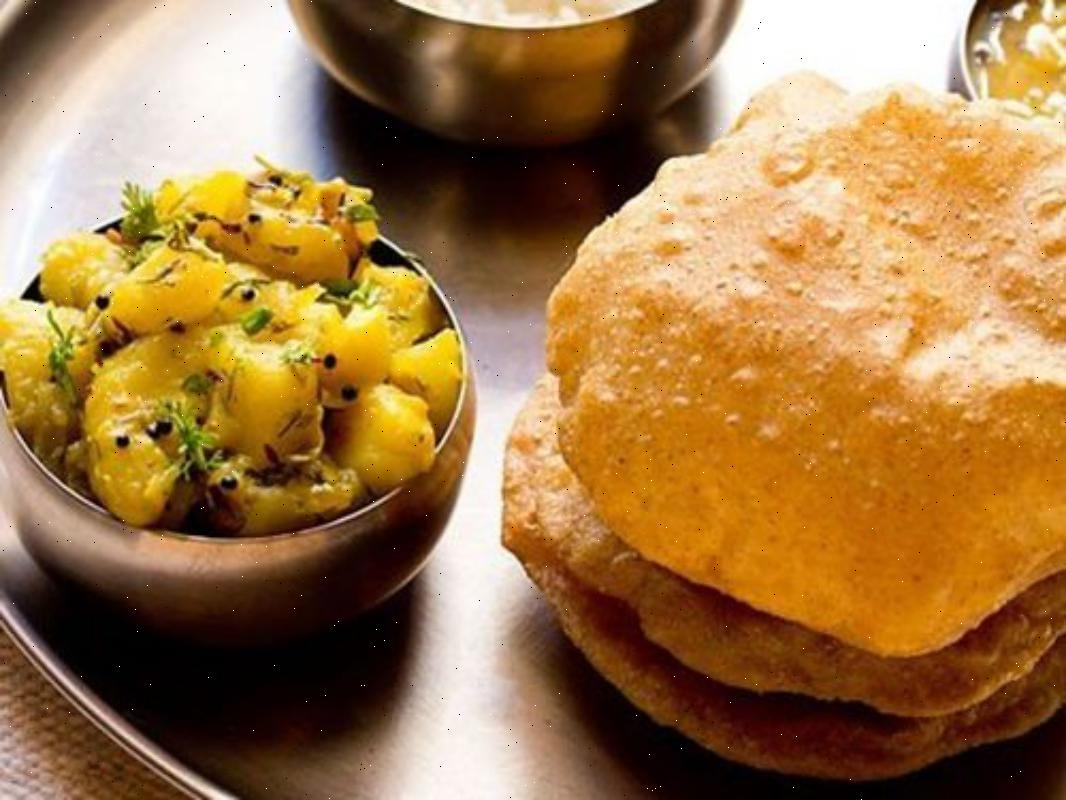puri: (546, 98, 1066, 744)
